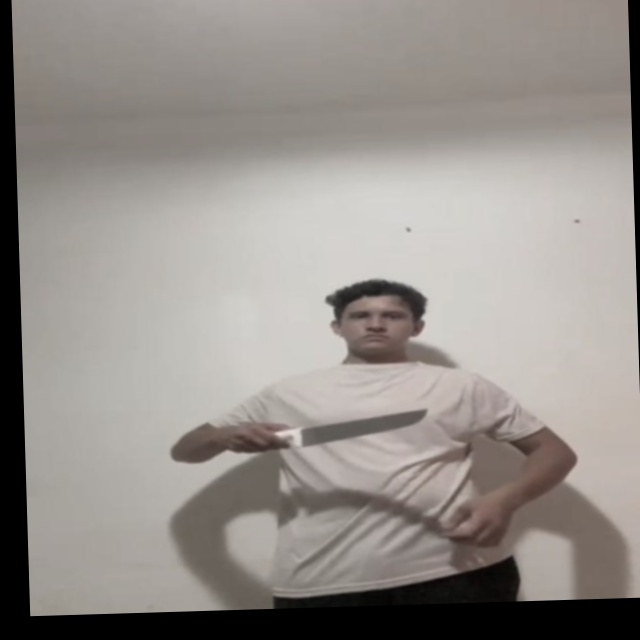Sharp-Object: (300, 406, 431, 442)
